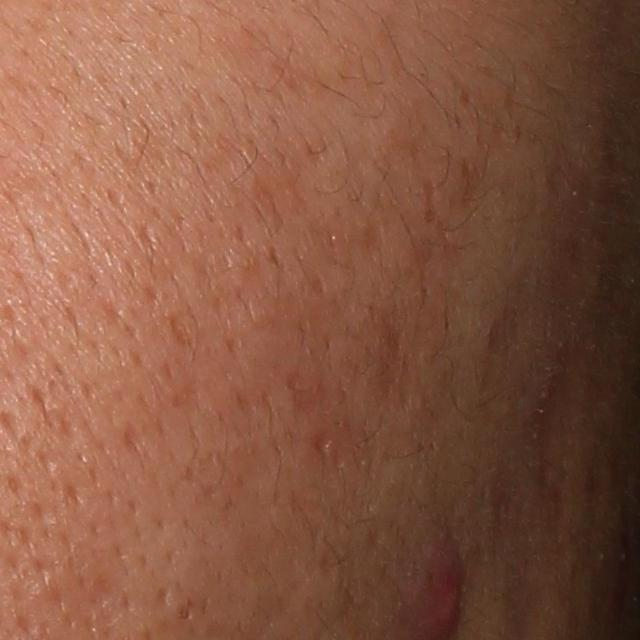atrophic_scar: (531, 353, 571, 521), (369, 331, 412, 415), (306, 429, 343, 466)
